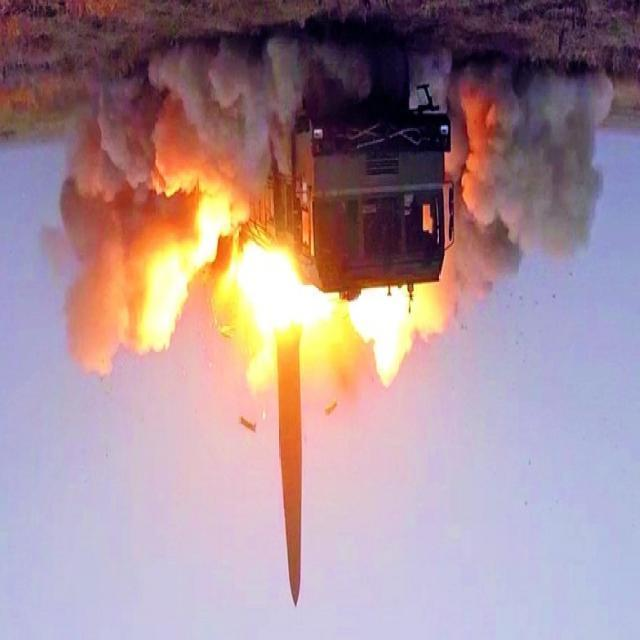Missile: (269, 317, 307, 611)
